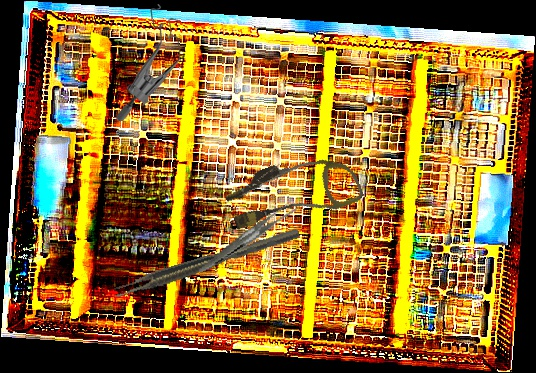Cannula: (220, 138, 366, 246)
Dressing Forceps: (187, 200, 307, 273)
Speculum: (109, 2, 187, 122)
Tissue Forceps: (110, 227, 303, 301)
